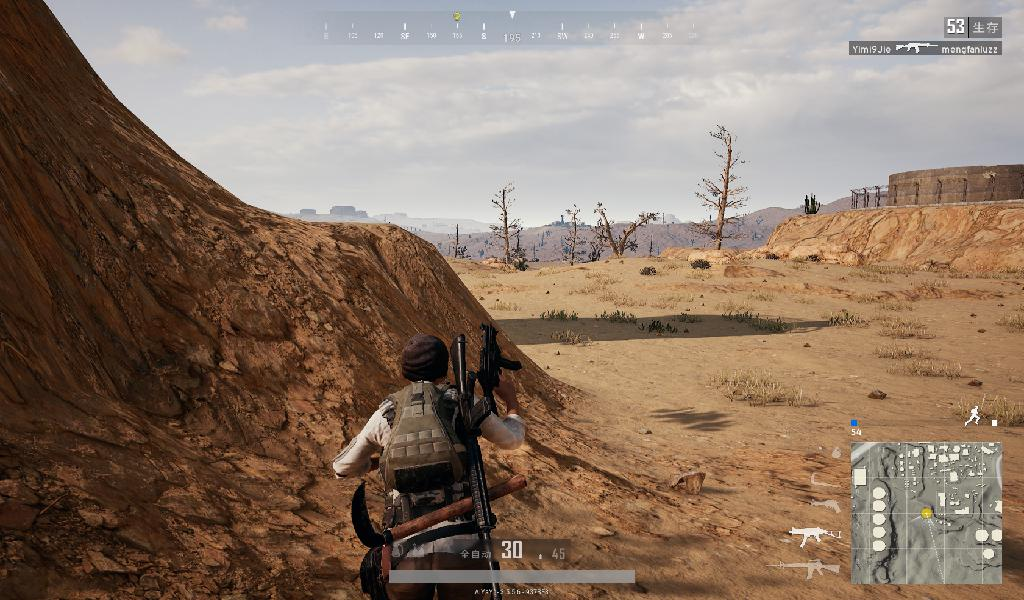Target Person: (334, 321, 526, 600)
